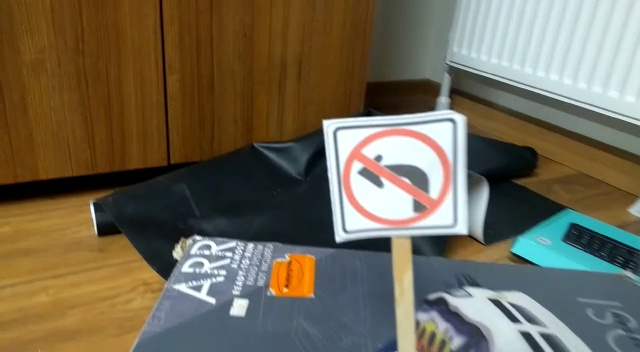sola_donulmez: (340, 117, 460, 237)
